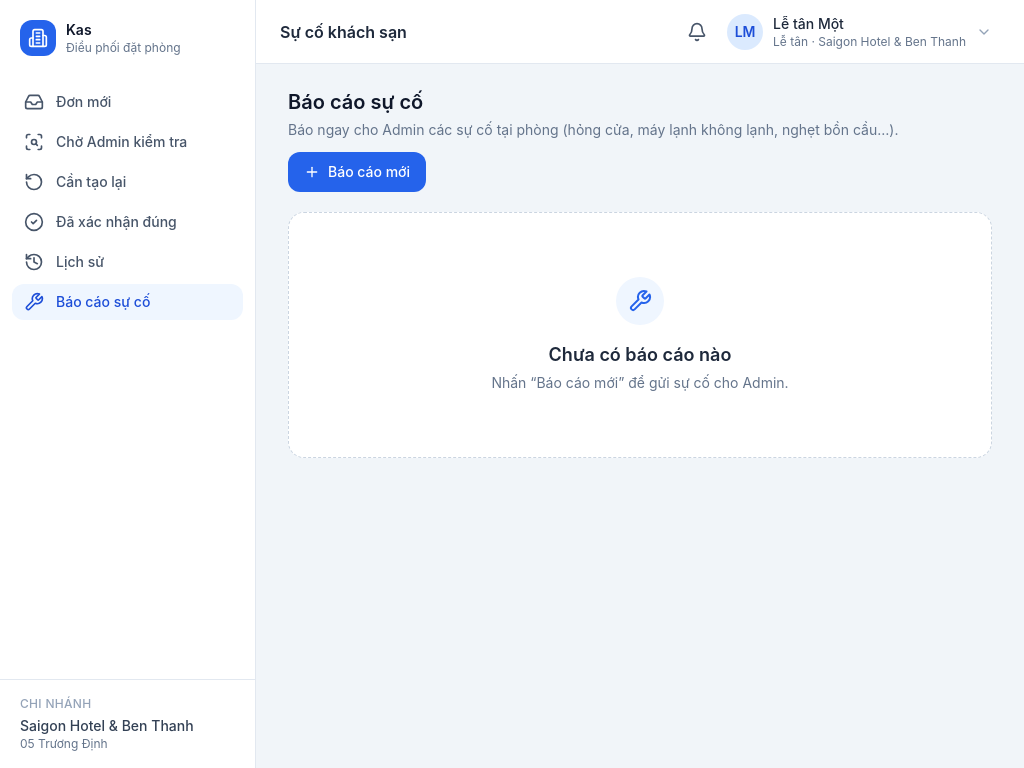
Test: IssuesPage — receptionist › creates a new issue report via the modal form
This screenshot has width=1024, height=768.
Check: the heading "Chưa có báo cáo nào" is shown, box [549, 341, 731, 369]
Click the button "Báo cáo mới" at (357, 172), box [288, 152, 426, 192]
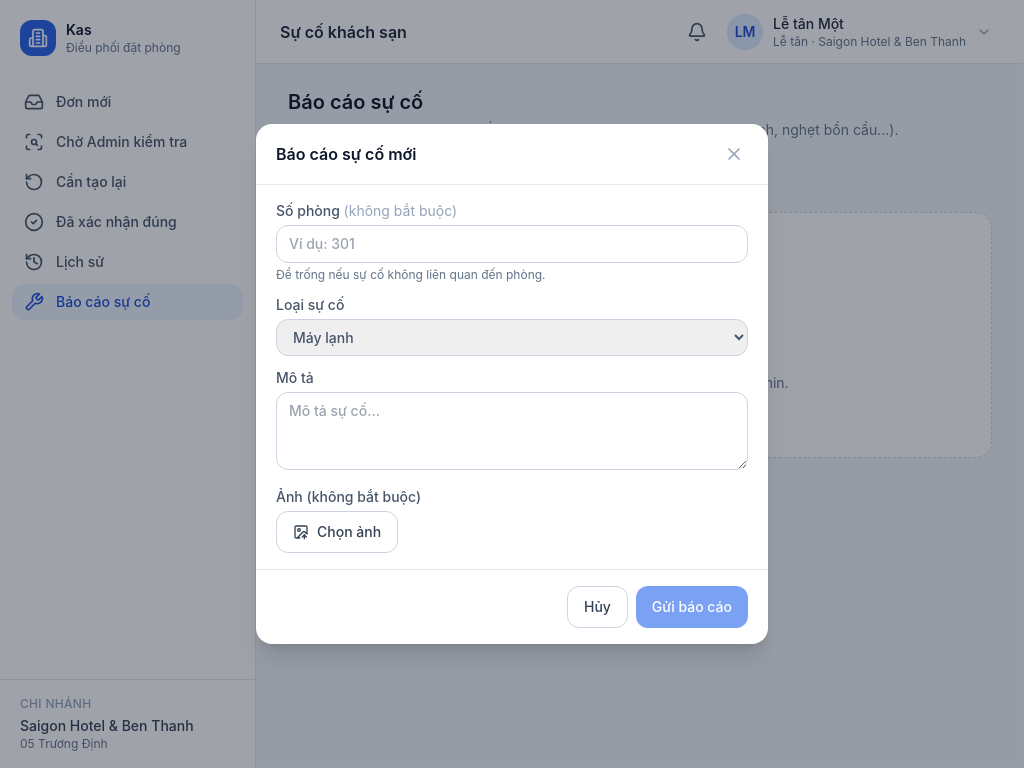
Check: the text "Để trống nếu sự cố không liên quan đến phòng." is shown, box [276, 267, 546, 282]
Type "Máy lạnh không lạnh" into the text box labelled "Mô tả" at (512, 431), box [276, 392, 748, 470]
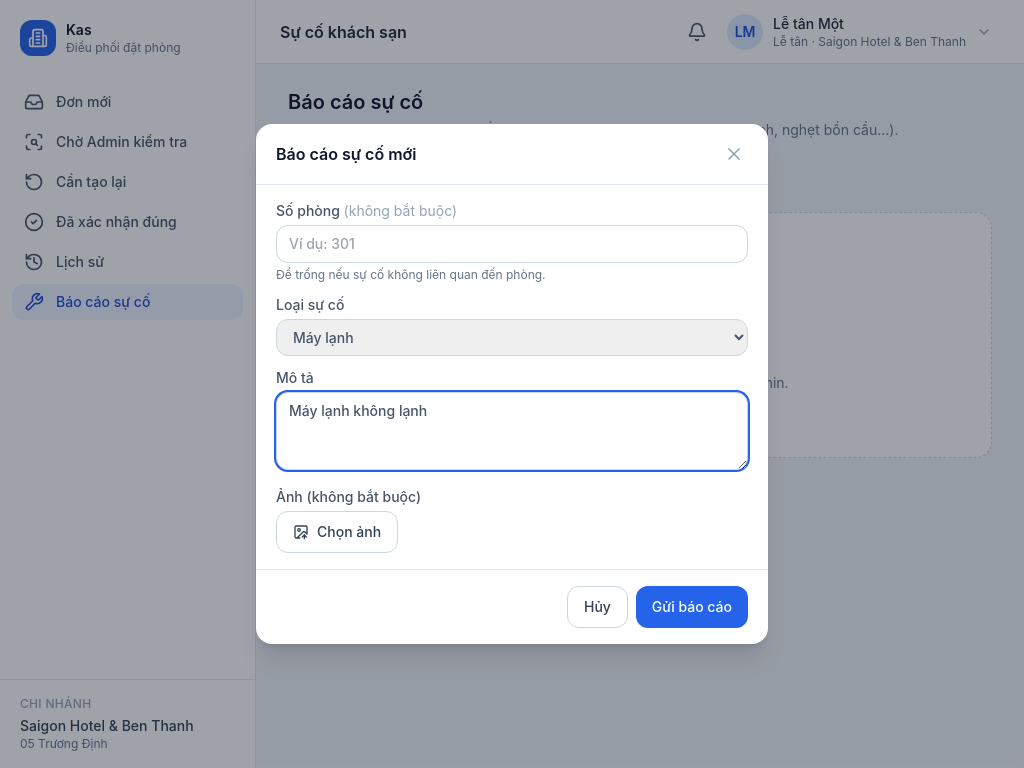
Click the button "Gửi báo cáo" at (692, 607), box [636, 586, 748, 628]
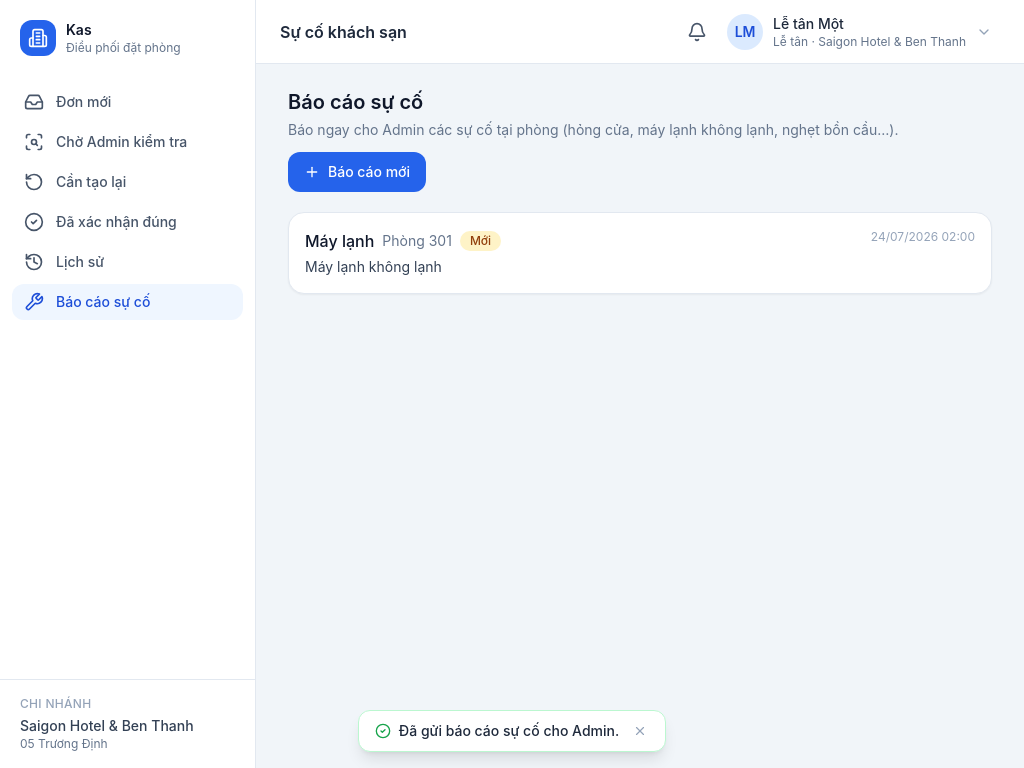
Check: the text "Đã gửi báo cáo sự cố cho Admin." is shown, box [399, 721, 619, 741]
